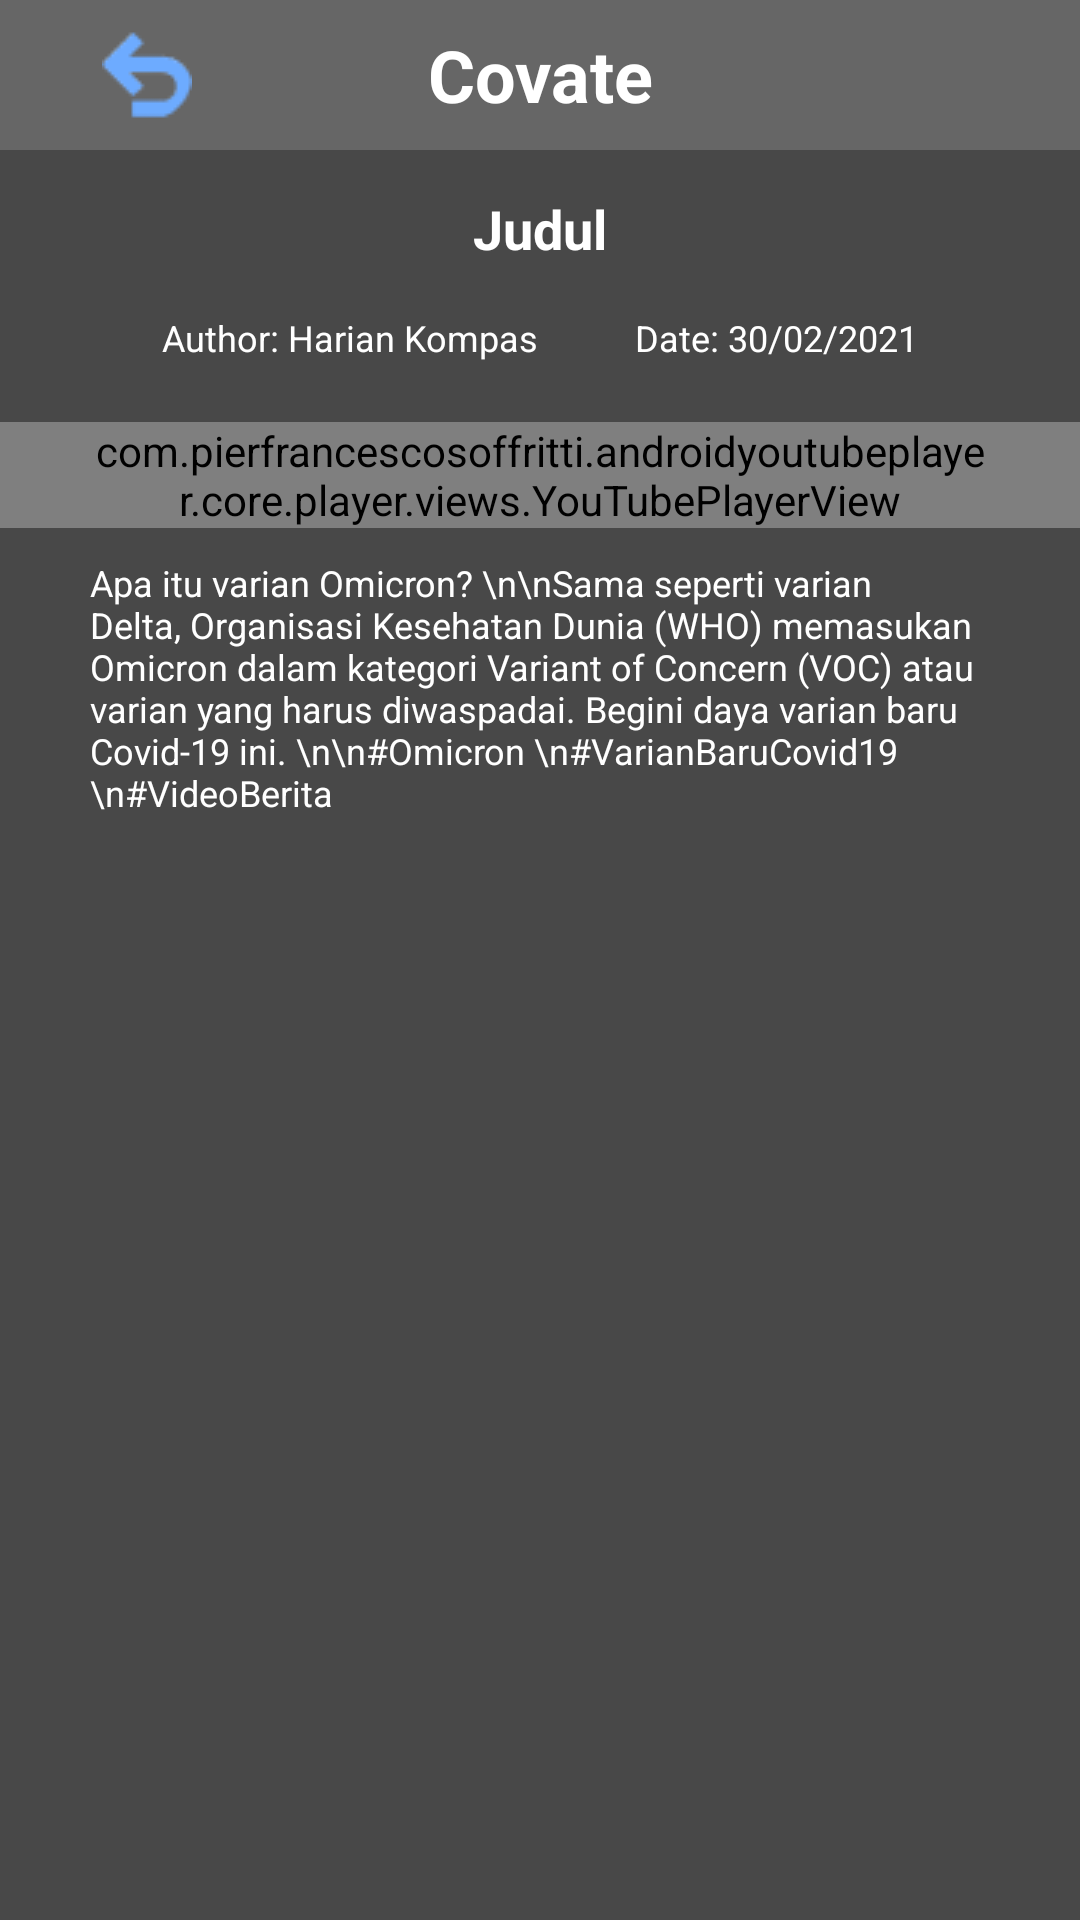

Screen size 1080 x 1920. Icon name, then its center in pixels as (x=x, y=y):
back menu: (x=147, y=75)
